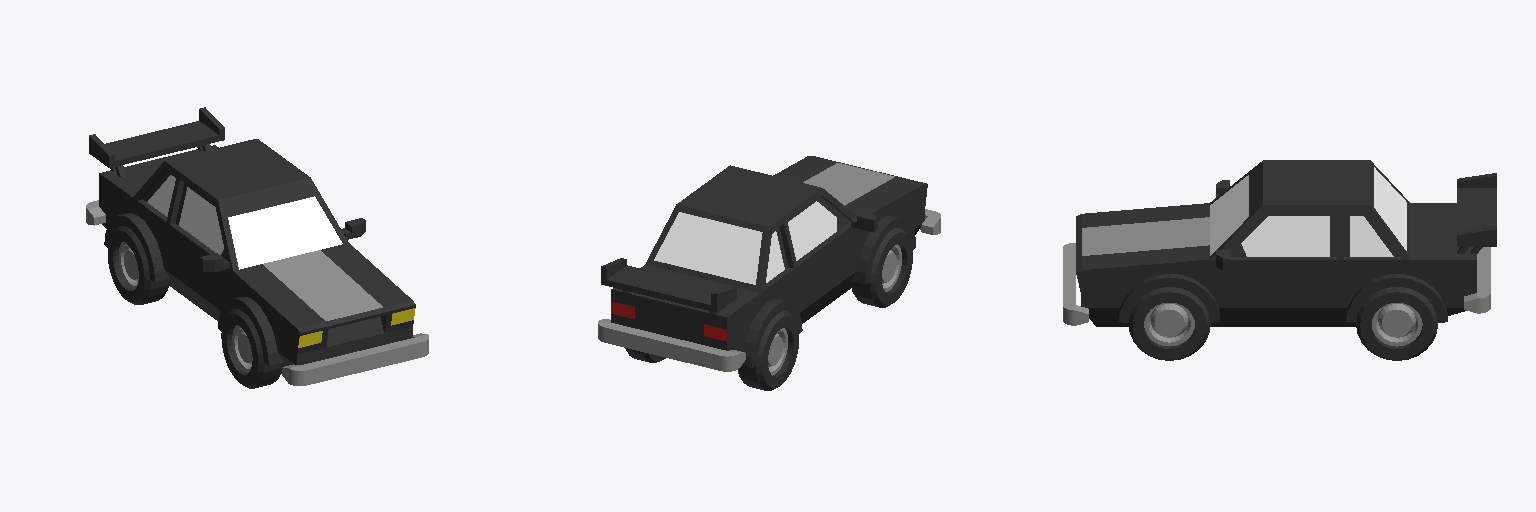
Rendered from car_sports_black.obj.
3 renders of one model, left to right at view 1: azimuth 30°, elevation 25°; view 2: azimuth 150°, elevation 25°; view 3: azimuth 270°, elevation 25°, orthographic.
Visible parts, largest first — view 1: mergedBlocks; view 2: mergedBlocks; view 3: mergedBlocks.
Boxes of the visible parts, <box> form: mergedBlocks: <box>86,107,428,388</box>; mergedBlocks: <box>598,156,940,390</box>; mergedBlocks: <box>1063,160,1496,360</box>.
Bounding box in the file's own units: 1.4 × 1.21 × 3.25.